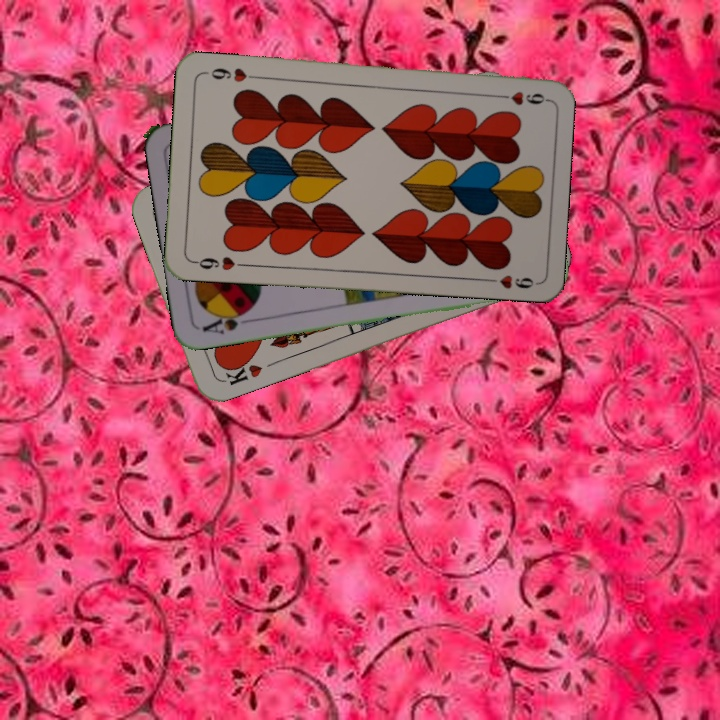H9: (189, 252, 248, 273), (489, 87, 549, 107)
HK: (217, 354, 265, 388)
SA: (198, 306, 257, 337)
